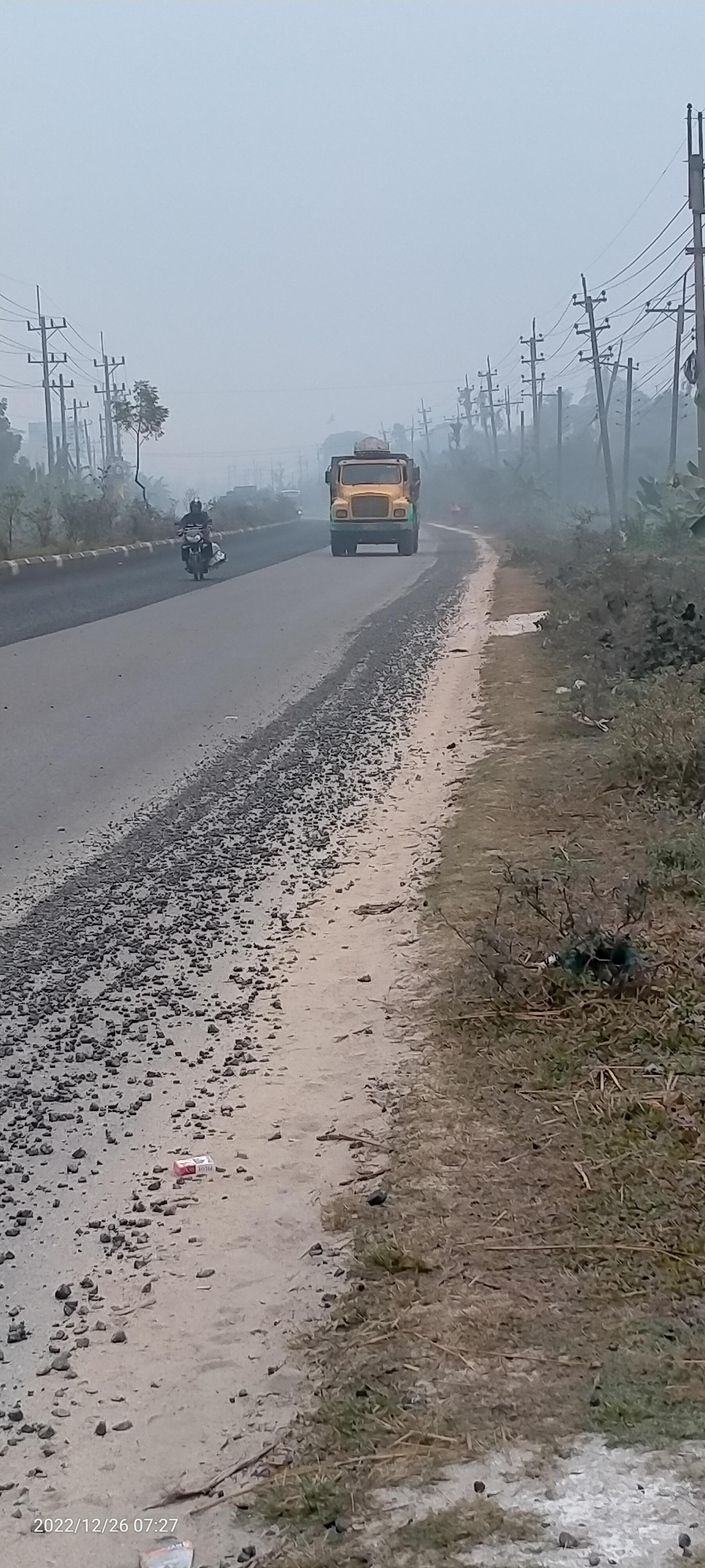Bike: (168, 494, 222, 584)
Truck: (324, 437, 430, 564)
